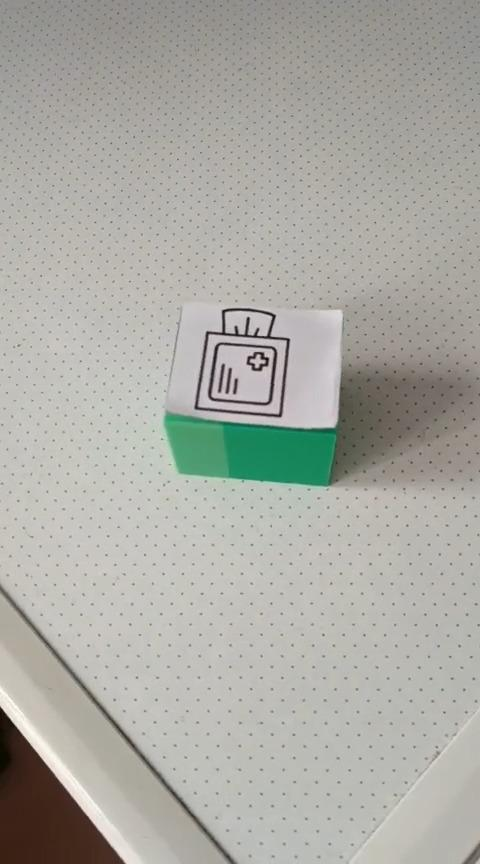Gauze: (162, 300, 344, 487)
